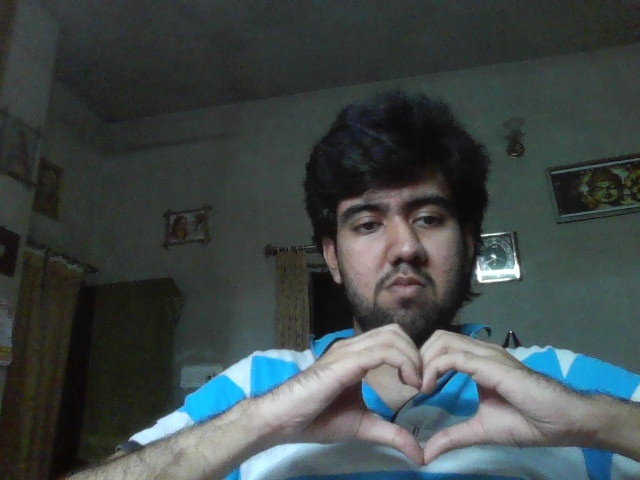Love: (281, 322, 564, 467)
